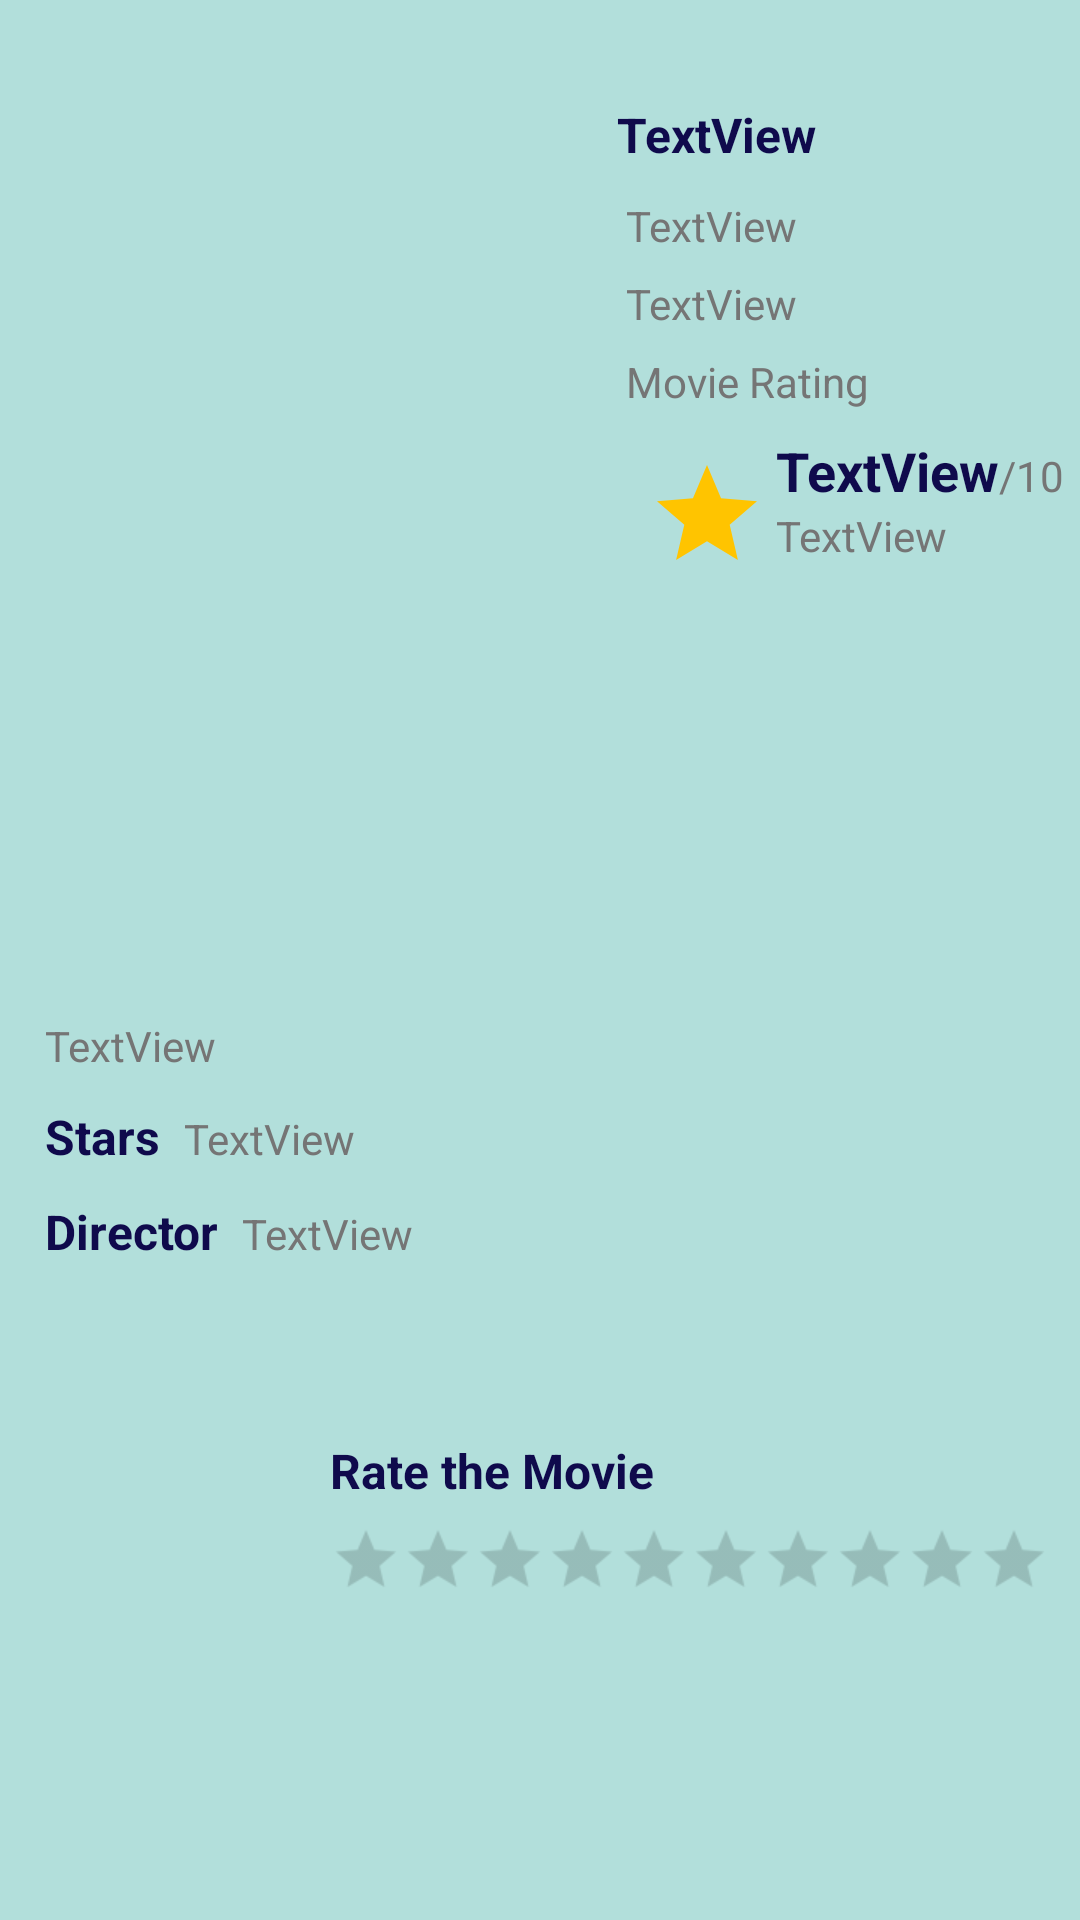

Icons on this 1080px x 1920px Android screen, each with the point to tap as point (x, y):
star: point (707, 512)
